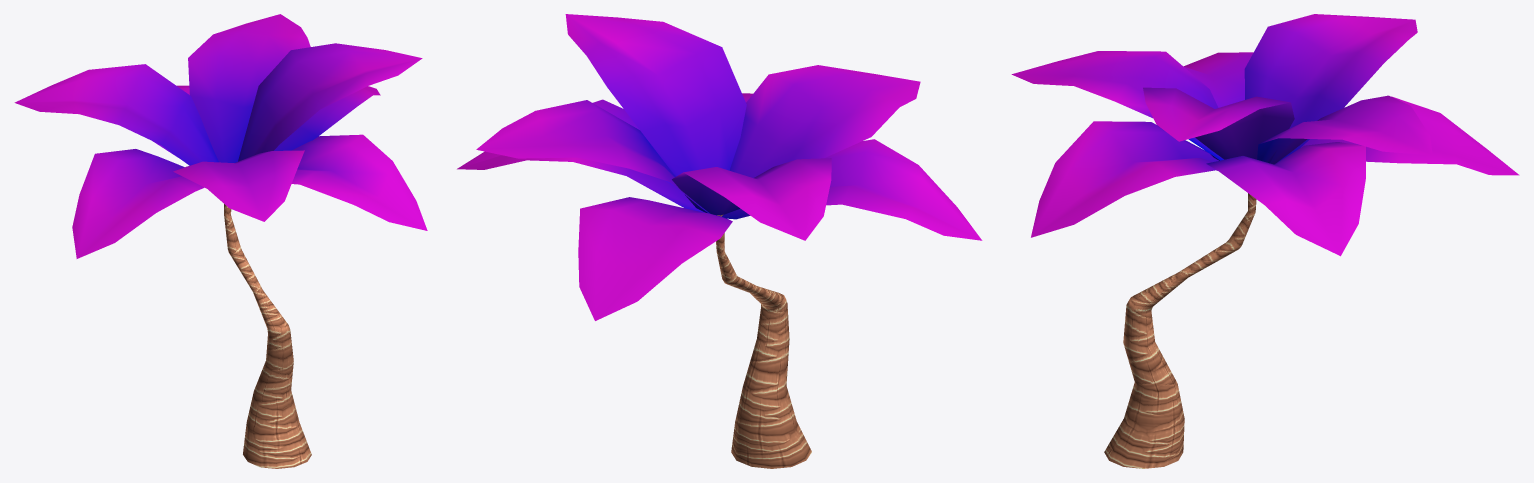
Rendered from Tree_Palm_01.fbx.
3 renders of one model, left to right at view 1: azimuth 30°, elevation 25°; view 2: azimuth 150°, elevation 25°; view 3: azimuth 270°, elevation 25°, orthographic. The views are drawn at different scales.
Parts seen in each view (by area): view 1: Palm_01; view 2: Palm_01; view 3: Palm_01.
Boxes of the visible parts, x1,y1,x2,y2 form: Palm_01: [14, 14, 427, 468]; Palm_01: [457, 14, 982, 468]; Palm_01: [1011, 14, 1519, 468].
Bounding box in the file's own units: 439 × 392 × 445.
